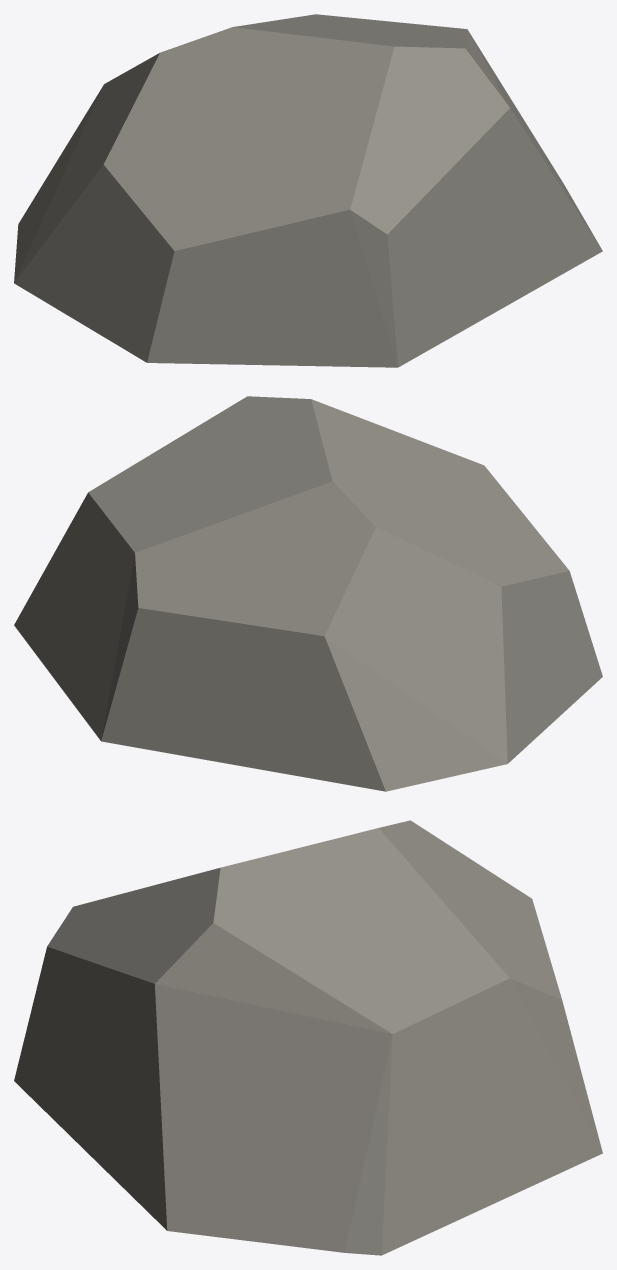
File: Rock_Round_s_03.fbx
3 renders of one model, top to bottom at view 1: azimuth 30°, elevation 25°; view 2: azimuth 150°, elevation 25°; view 3: azimuth 270°, elevation 25°, orthographic. The views are drawn at different scales.
Parts seen in each view (by area): view 1: Rock_Round_s_03; view 2: Rock_Round_s_03; view 3: Rock_Round_s_03.
Part boxes in pixels (bbox=[...]): Rock_Round_s_03: bbox=[14, 14, 602, 367]; Rock_Round_s_03: bbox=[14, 396, 602, 791]; Rock_Round_s_03: bbox=[14, 820, 602, 1255].
Bounding box in the file's own units: 0.5253 × 0.2613 × 0.4584.
